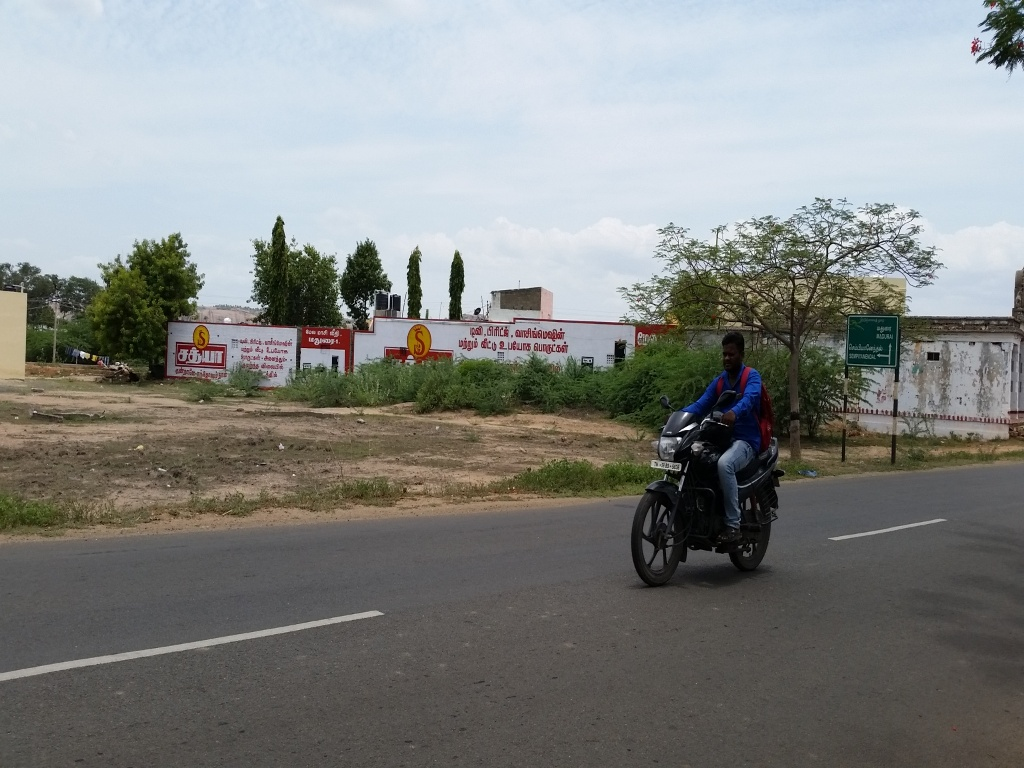biker: (608, 292, 812, 598)
nohelmet: (715, 321, 753, 388)
